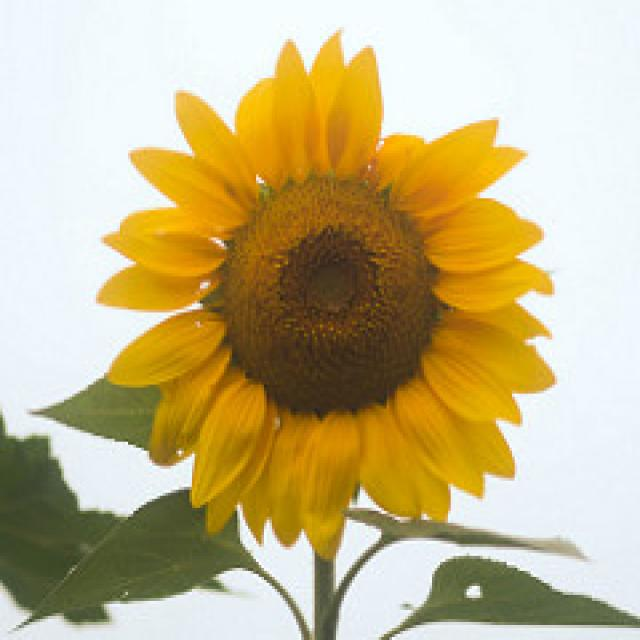sunflower: (88, 33, 568, 547)
